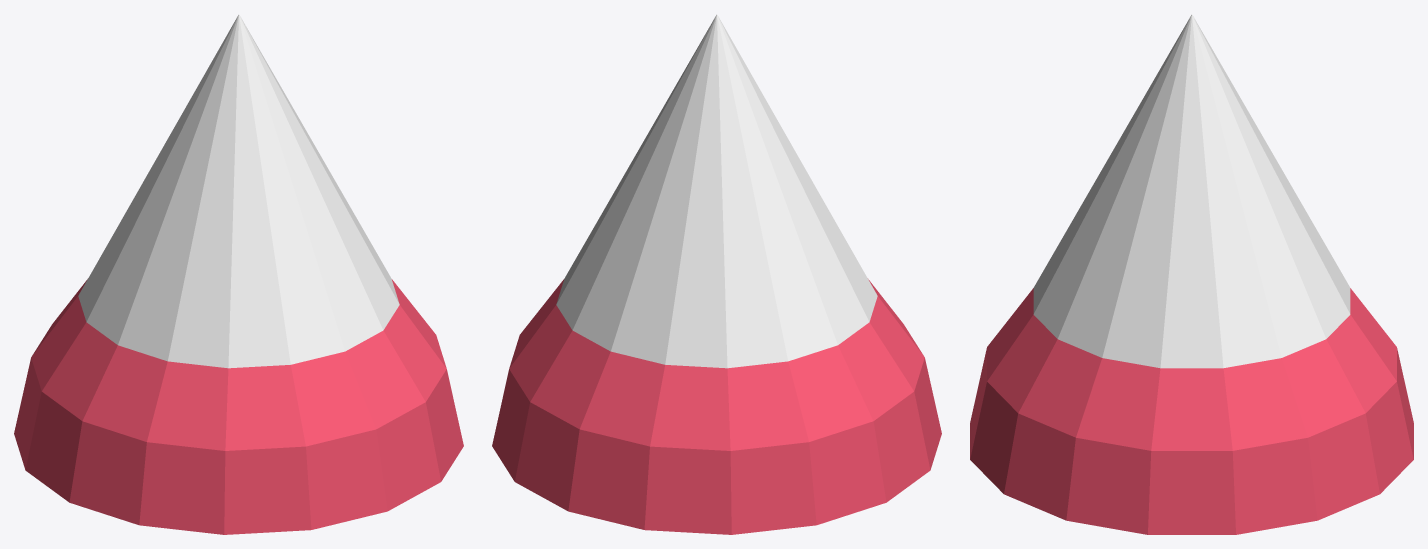
Rendered from lizard_tooth.gltf.
The picture shows the model from 3 angles, left to right: view 1: azimuth 30°, elevation 25°; view 2: azimuth 150°, elevation 25°; view 3: azimuth 270°, elevation 25°; orthographic projection.
Parts seen in each view (by area): view 1: gum, tooth; view 2: gum, tooth; view 3: gum, tooth.
Boxes of the visible parts, <box> form: gum: <box>14,279,463,534</box>; tooth: <box>78,14,399,368</box>; gum: <box>492,279,941,534</box>; tooth: <box>556,14,877,368</box>; gum: <box>970,288,1413,534</box>; tooth: <box>1033,14,1350,368</box>.
Size of the model in its own units: 1 by 1.06 by 1.
Materials: 2 (2 with a texture image).
